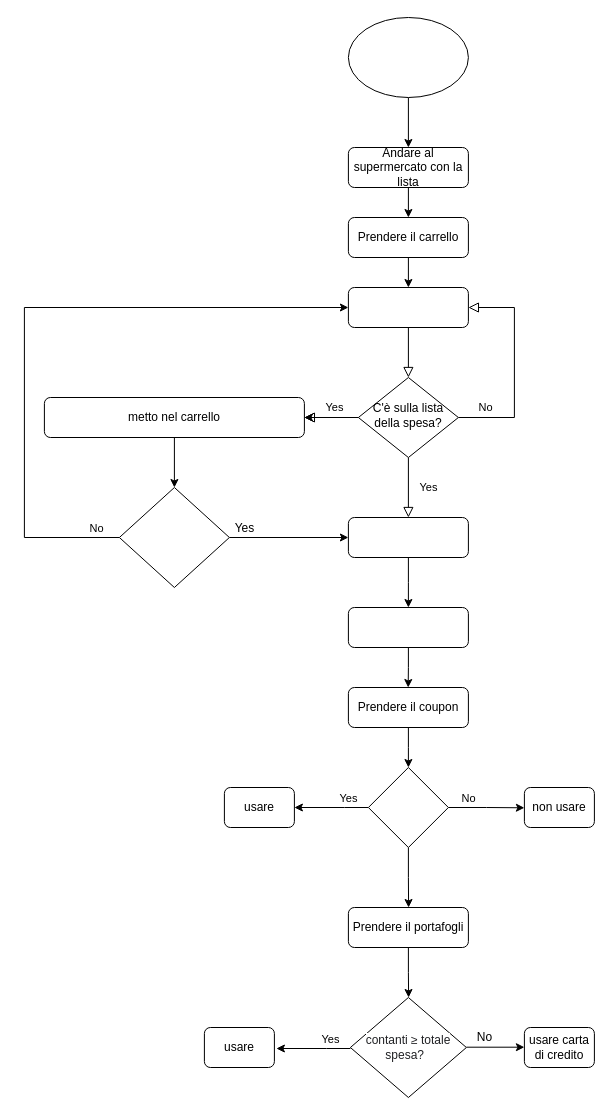
Some shapes in this 612 by 1115 pixel diagram are drawn without their labels. The centre of each missing label's shape, as x and y in pixels:
Andare alla cassa: point (407, 537)
ci sono tutti i prodotti della lista?: point (173, 537)
Controllare i prodotti sugli scaffali: point (407, 307)
Fare la spesa: point (407, 57)
Mettere i prodotti sul nastro: point (407, 627)
è valido?: point (407, 807)
